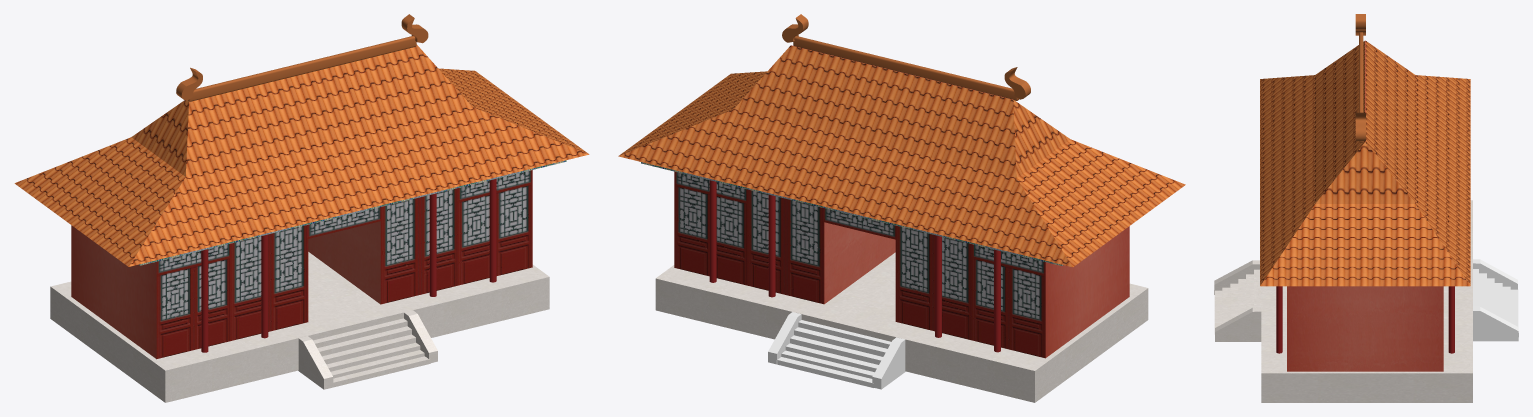
File: cemen.FBX
The picture shows the model from 3 angles, left to right: view 1: azimuth 30°, elevation 25°; view 2: azimuth 150°, elevation 25°; view 3: azimuth 270°, elevation 25°; orthographic projection. The views are drawn at different scales.
Parts seen in each view (by area): view 1: 12685; view 2: 12685; view 3: 12685.
Boxes of the visible parts, bbox=[...] form: 12685: bbox=[14, 14, 589, 402]; 12685: bbox=[618, 14, 1185, 402]; 12685: bbox=[1214, 14, 1518, 402].
Size of the model in its own units: 368 by 210 by 228.
8 materials, 5 textured.
